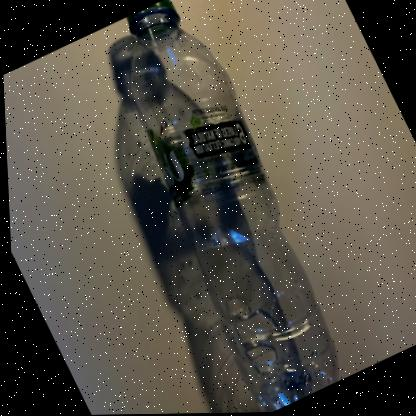Plastic: (127, 0, 334, 411)
